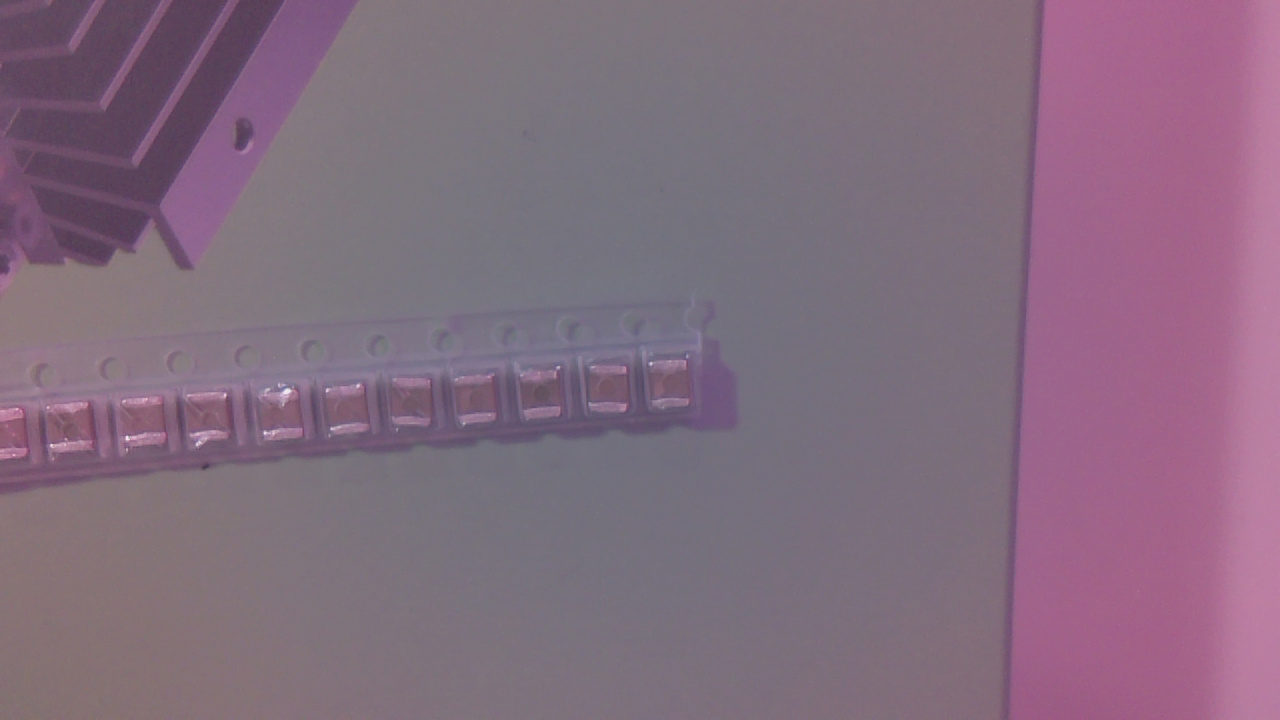Condensator: (119, 402, 171, 459), (185, 395, 236, 451), (49, 405, 100, 461), (456, 375, 506, 431), (590, 364, 638, 420), (327, 387, 376, 441), (263, 392, 311, 447), (651, 358, 696, 416), (522, 370, 567, 427), (394, 379, 442, 432), (6, 411, 36, 469)
